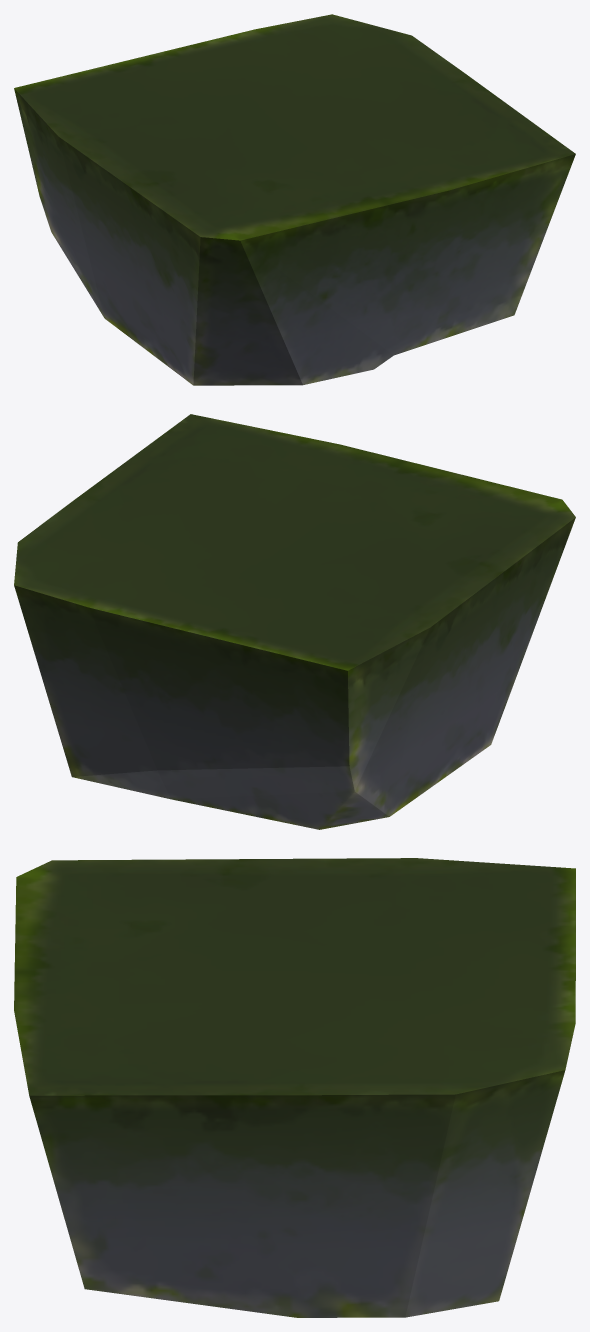
The model's file is platform_1.glb.
3 renders of one model, top to bottom at view 1: azimuth 30°, elevation 25°; view 2: azimuth 150°, elevation 25°; view 3: azimuth 270°, elevation 25°, orthographic. The views are drawn at different scales.
Visible parts, largest first — view 1: Pebble_Square_4; view 2: Pebble_Square_4; view 3: Pebble_Square_4.
Part boxes in pixels (x1,y1,x2,y2): Pebble_Square_4: (14, 14, 575, 385); Pebble_Square_4: (14, 414, 575, 829); Pebble_Square_4: (14, 858, 575, 1317).
Size of what is drawn, in the model's own units: 2 by 1 by 2.
1 material, 1 textured.
